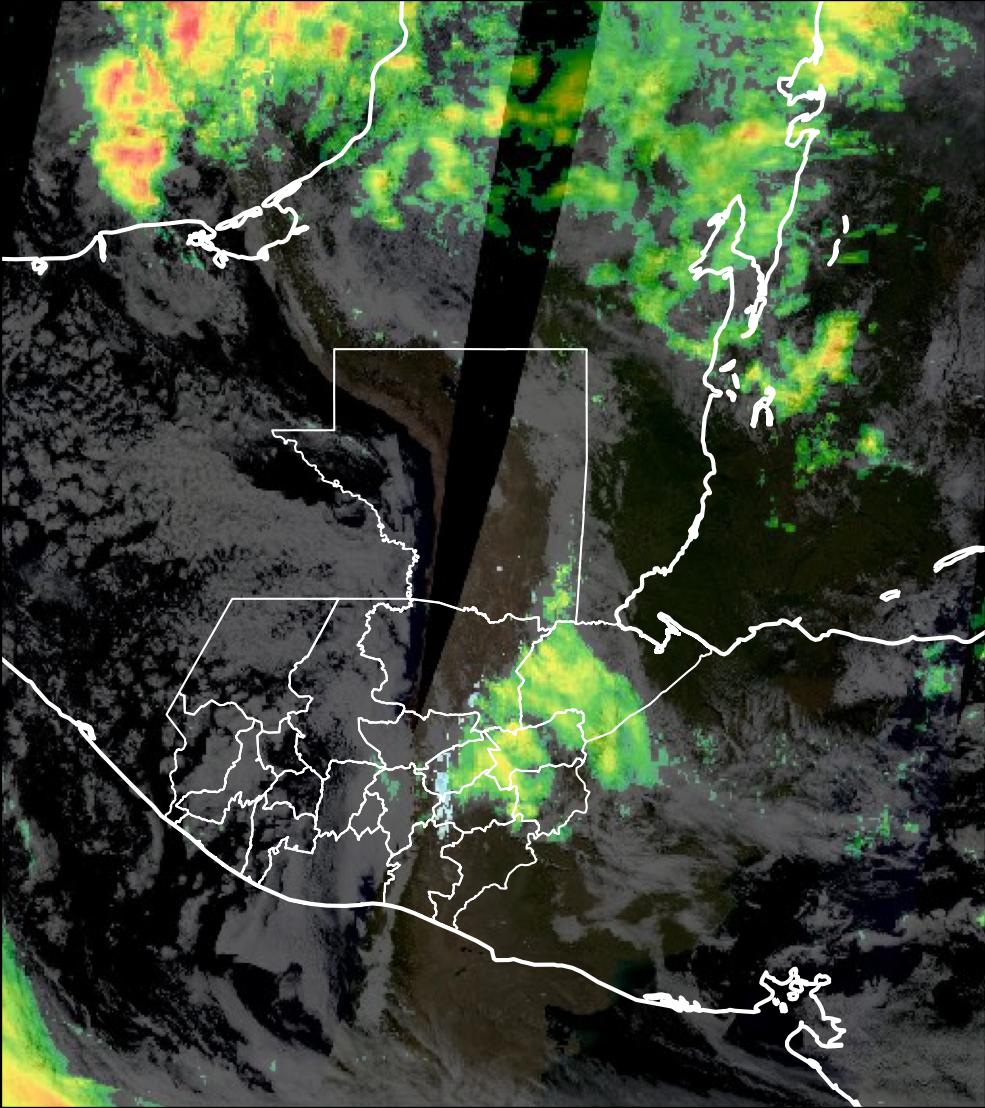precipitacion: (80, 57, 184, 213), (316, 17, 363, 69)
